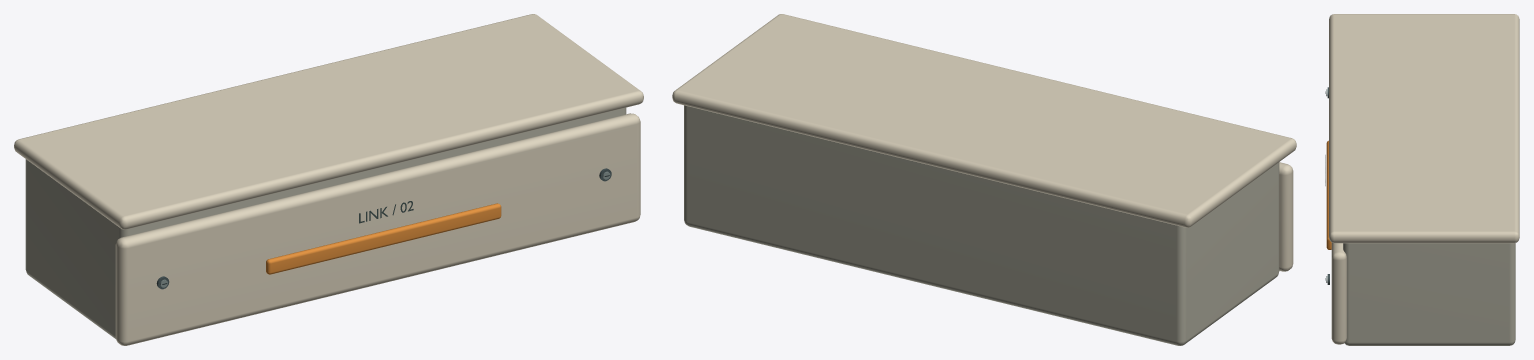
File: dock-head-2m.glb
The picture shows the model from 3 angles, left to right: view 1: azimuth 30°, elevation 25°; view 2: azimuth 150°, elevation 25°; view 3: azimuth 270°, elevation 25°; orthographic projection. The views are drawn at different scales.
Visible parts, largest first — view 1: dock-head-2m / 01 • warm porcelain paint, dock-head-2m / 02 • inner shell, dock-head-2m / 03 • ochre enamel; view 2: dock-head-2m / 02 • inner shell, dock-head-2m / 01 • warm porcelain paint; view 3: dock-head-2m / 01 • warm porcelain paint, dock-head-2m / 02 • inner shell, dock-head-2m / 03 • ochre enamel.
Part boxes in pixels (x1,y1,x2,y2): dock-head-2m / 01 • warm porcelain paint: (14, 14, 643, 345); dock-head-2m / 02 • inner shell: (25, 107, 626, 338); dock-head-2m / 03 • ochre enamel: (266, 203, 501, 274); dock-head-2m / 02 • inner shell: (684, 105, 1279, 345); dock-head-2m / 01 • warm porcelain paint: (672, 14, 1296, 271); dock-head-2m / 01 • warm porcelain paint: (1329, 14, 1519, 344); dock-head-2m / 02 • inner shell: (1343, 243, 1515, 345); dock-head-2m / 03 • ochre enamel: (1326, 140, 1331, 249).
Bounding box in the file's own units: 2.06 × 0.515 × 0.7643.
